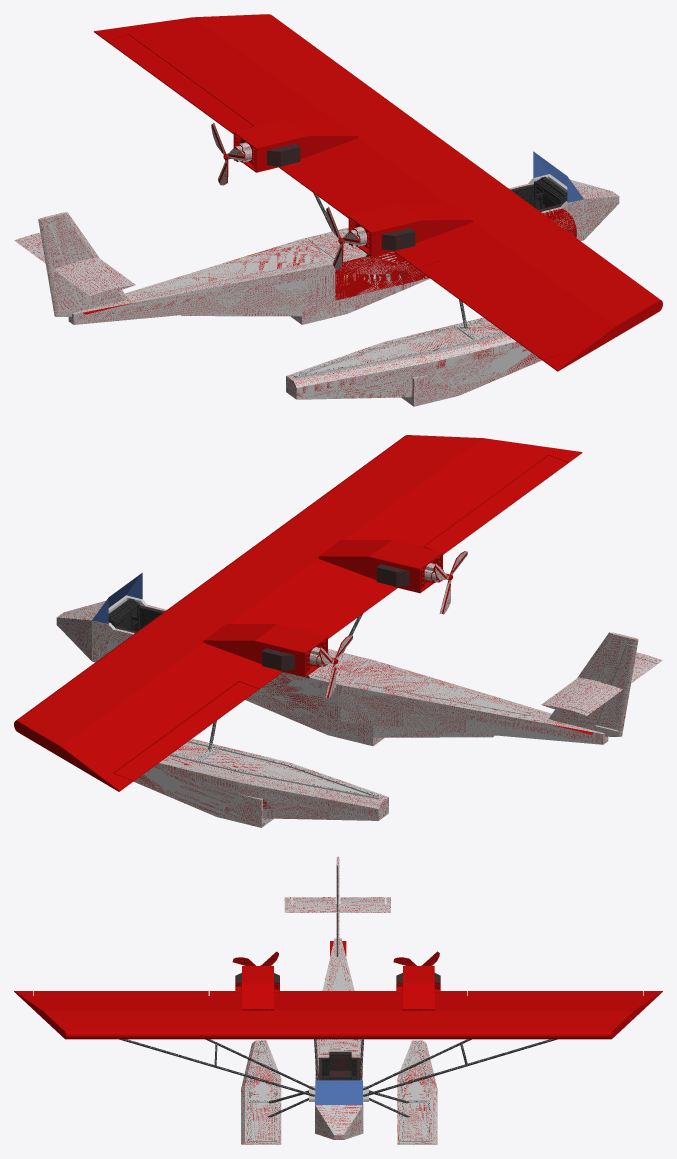
3 views of the same model, one above another, from view 1: azimuth 30°, elevation 25°; view 2: azimuth 150°, elevation 25°; view 3: azimuth 270°, elevation 25° (orthographic). The views are drawn at different scales.
Parts seen in each view (by area): view 1: mesh48.001_mesh48-geometry, mesh136_mesh136-geometry, mesh125.001_mesh125-geometry, mesh1.003_mesh1-geometry, mesh1.004_mesh1-geometry, mesh114.001_mesh114-geometry, mesh59.001_mesh59-geometry; view 2: mesh48.001_mesh48-geometry, mesh136_mesh136-geometry, mesh114.001_mesh114-geometry, mesh1.004_mesh1-geometry, mesh1.003_mesh1-geometry, mesh125.001_mesh125-geometry, mesh59.001_mesh59-geometry; view 3: mesh48.001_mesh48-geometry, mesh136_mesh136-geometry, mesh114.001_mesh114-geometry, mesh125.001_mesh125-geometry, mesh1.004_mesh1-geometry, mesh1.003_mesh1-geometry, mesh59.001_mesh59-geometry, mesh139_mesh139-geometry, mesh137_mesh137-geometry, mesh138_mesh138-geometry.
Part boxes in pixels (bbox=[...]): mesh48.001_mesh48-geometry: bbox=[94, 14, 662, 371]; mesh136_mesh136-geometry: bbox=[14, 151, 619, 324]; mesh125.001_mesh125-geometry: bbox=[286, 317, 541, 406]; mesh1.003_mesh1-geometry: bbox=[326, 203, 472, 269]; mesh1.004_mesh1-geometry: bbox=[211, 119, 358, 185]; mesh114.001_mesh114-geometry: bbox=[181, 278, 429, 324]; mesh59.001_mesh59-geometry: bbox=[510, 176, 567, 211]; mesh48.001_mesh48-geometry: bbox=[14, 435, 582, 791]; mesh136_mesh136-geometry: bbox=[56, 573, 662, 744]; mesh114.001_mesh114-geometry: bbox=[134, 739, 388, 827]; mesh1.004_mesh1-geometry: bbox=[203, 624, 352, 698]; mesh1.003_mesh1-geometry: bbox=[318, 540, 467, 614]; mesh125.001_mesh125-geometry: bbox=[245, 699, 495, 745]; mesh59.001_mesh59-geometry: bbox=[108, 598, 164, 632]; mesh48.001_mesh48-geometry: bbox=[14, 991, 662, 1039]; mesh136_mesh136-geometry: bbox=[284, 856, 390, 1139]; mesh114.001_mesh114-geometry: bbox=[397, 1040, 437, 1144]; mesh125.001_mesh125-geometry: bbox=[241, 1040, 281, 1144]; mesh1.004_mesh1-geometry: bbox=[393, 951, 440, 1010]; mesh1.003_mesh1-geometry: bbox=[232, 951, 279, 1010]; mesh59.001_mesh59-geometry: bbox=[318, 1051, 360, 1080]; mesh139_mesh139-geometry: bbox=[119, 1039, 314, 1117]; mesh137_mesh137-geometry: bbox=[363, 1039, 557, 1096]; mesh138_mesh138-geometry: bbox=[363, 1039, 471, 1103].
Bounding box in the file's own units: 0.5726 × 0.2 × 0.7951.
